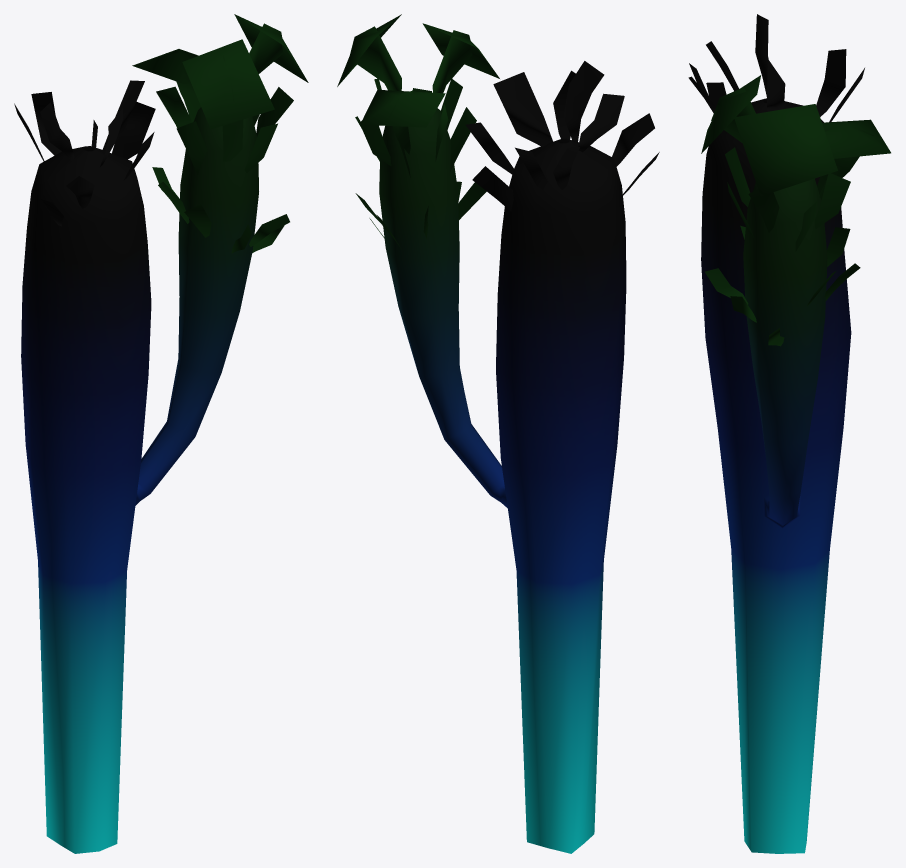
File: Saguaro1.fbx
3 renders of one model, left to right at view 1: azimuth 30°, elevation 25°; view 2: azimuth 150°, elevation 25°; view 3: azimuth 270°, elevation 25°, orthographic. The views are drawn at different scales.
Visible parts, largest first — view 1: Saguaro1_LOD0; view 2: Saguaro1_LOD0; view 3: Saguaro1_LOD0.
Boxes of the visible parts, x1,y1,x2,y2 form: Saguaro1_LOD0: [14, 14, 308, 853]; Saguaro1_LOD0: [337, 14, 659, 853]; Saguaro1_LOD0: [688, 14, 890, 853].
Size of what is drawn, in the model's own units: 148 by 383 by 85.38.
